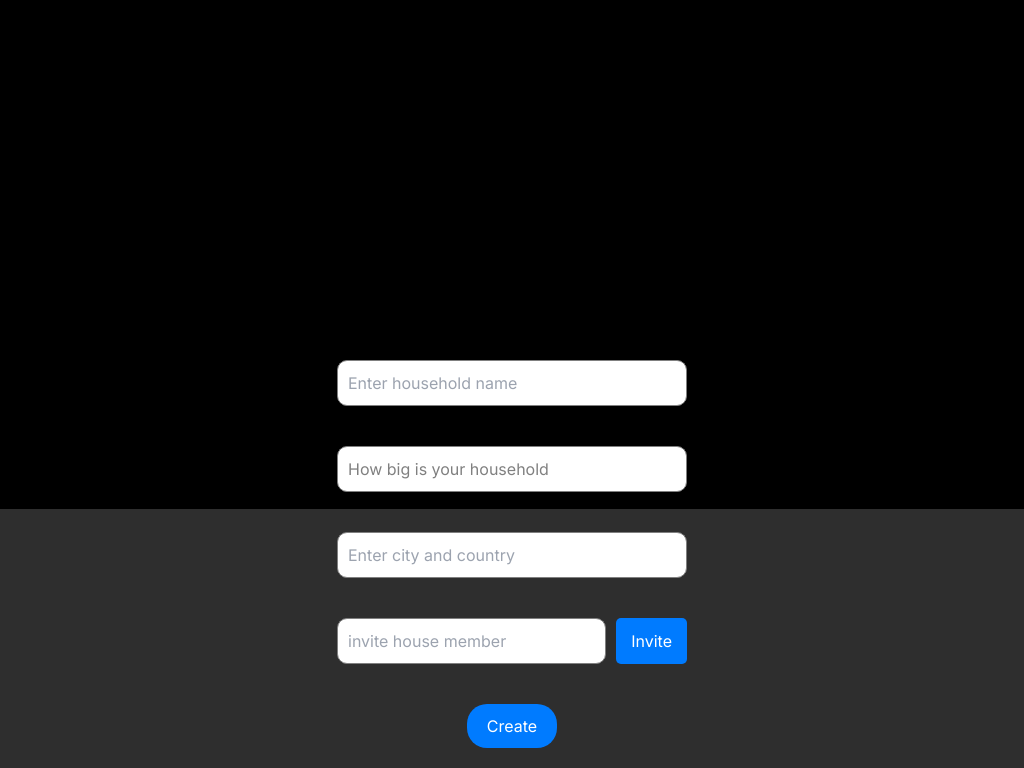
Test case: CreateHouseHold Component › Email Interactions › shows error for invalid email
The width and height of the screenshot is (1024, 768).
(page scrolled)
In the field with placeholder "invite house member": (472, 641) top-left (337, 618), bottom-right (606, 664), type "invalidEmail"
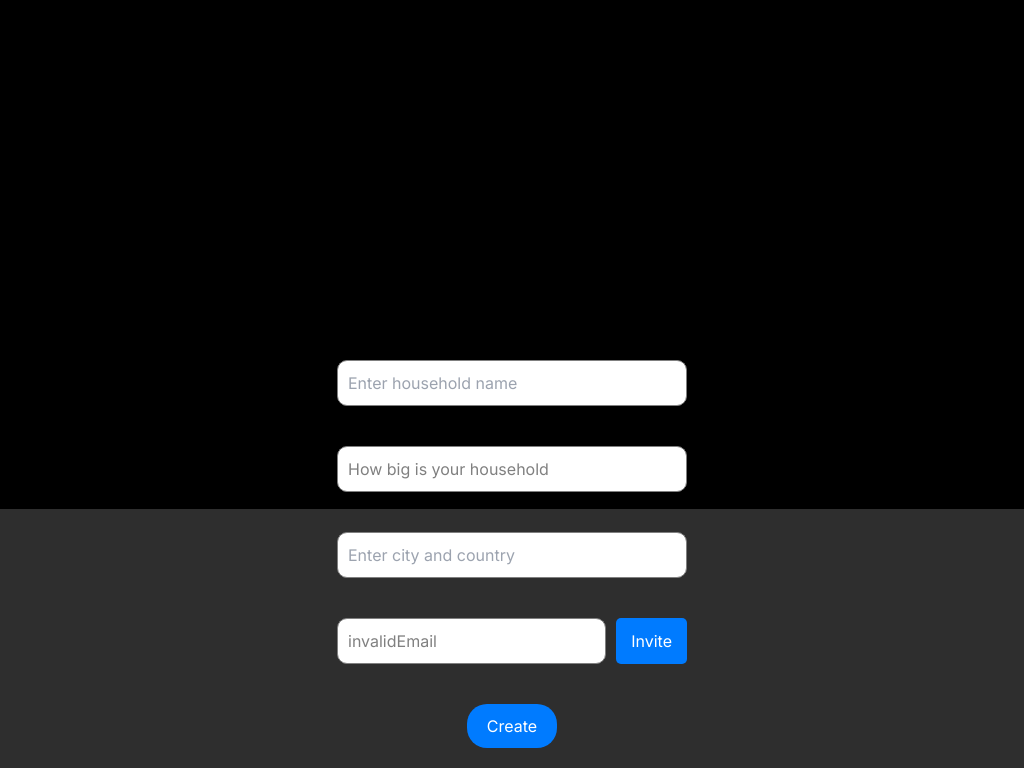
Click the button "Invite": (652, 641) top-left (616, 618), bottom-right (687, 664)
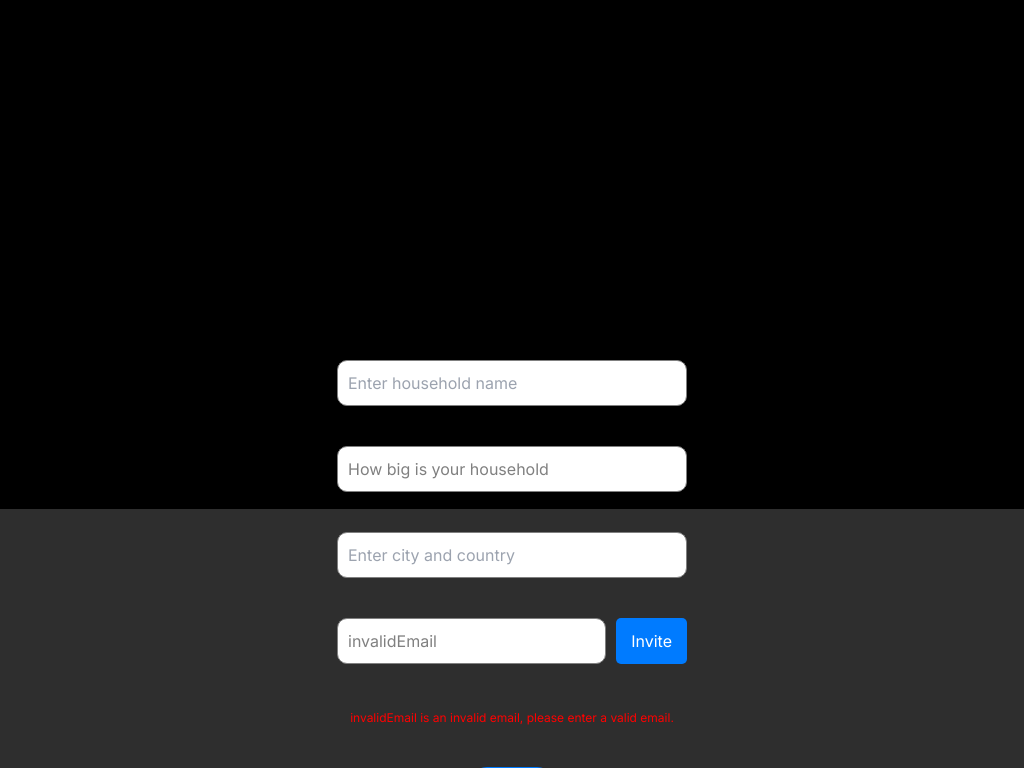
Check: the text "invalidEmail is an invalid email, please enter a valid email." is shown, box top-left (337, 709), bottom-right (687, 727)
